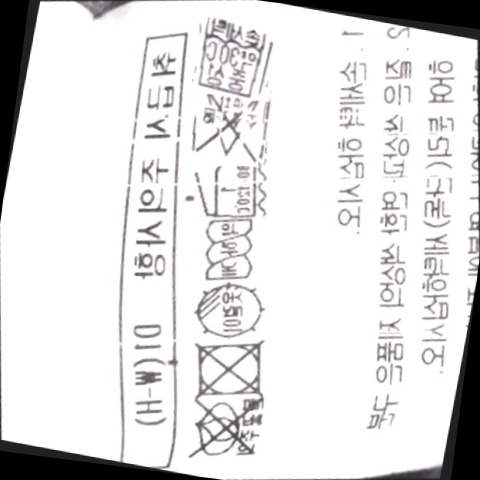DN_tumble_dry: (181, 326, 281, 410)
hand_wash: (186, 13, 280, 102)
iron_low: (189, 153, 270, 228)
line_dry_in_shade: (183, 273, 275, 348)
wring: (195, 211, 265, 290)
